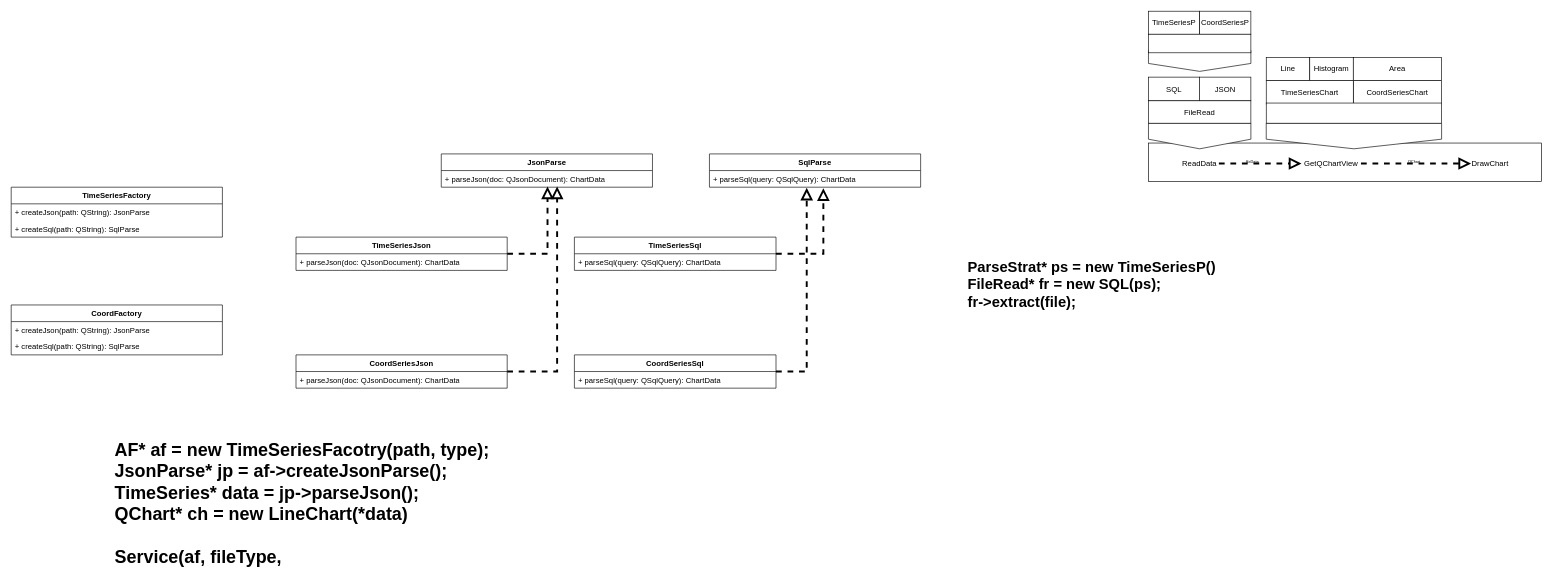
This 1553x582 diagram has some shape labels left out. The shapes that lost their labels are listed below. From the top down, each one's centre as x and y in pixels, then its label:
the point at 1199,43: ParseStrategy
the point at 1354,112: Chart
